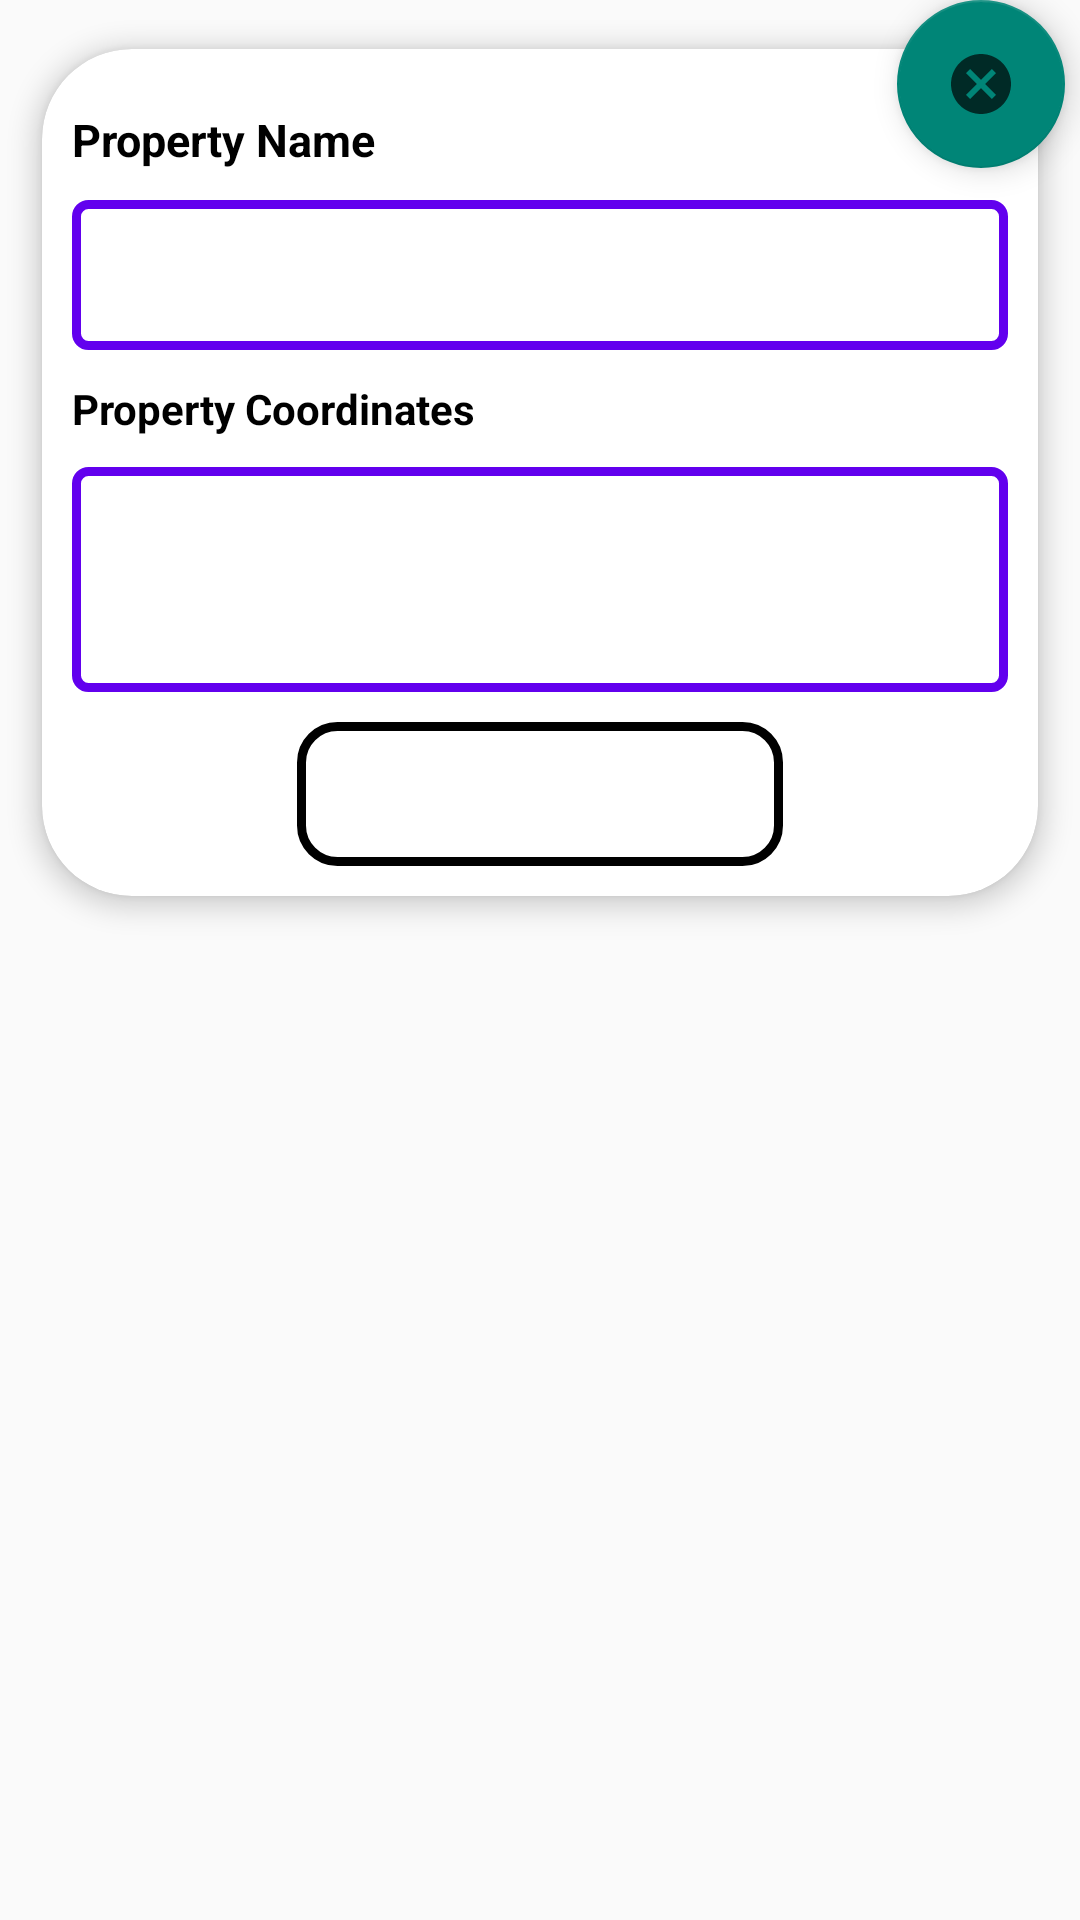

Named icons in this screenshot (1080*1920) and their bounding boxes, region(x1, y1, x2, y2):
cancel: region(897, 0, 1065, 168)
